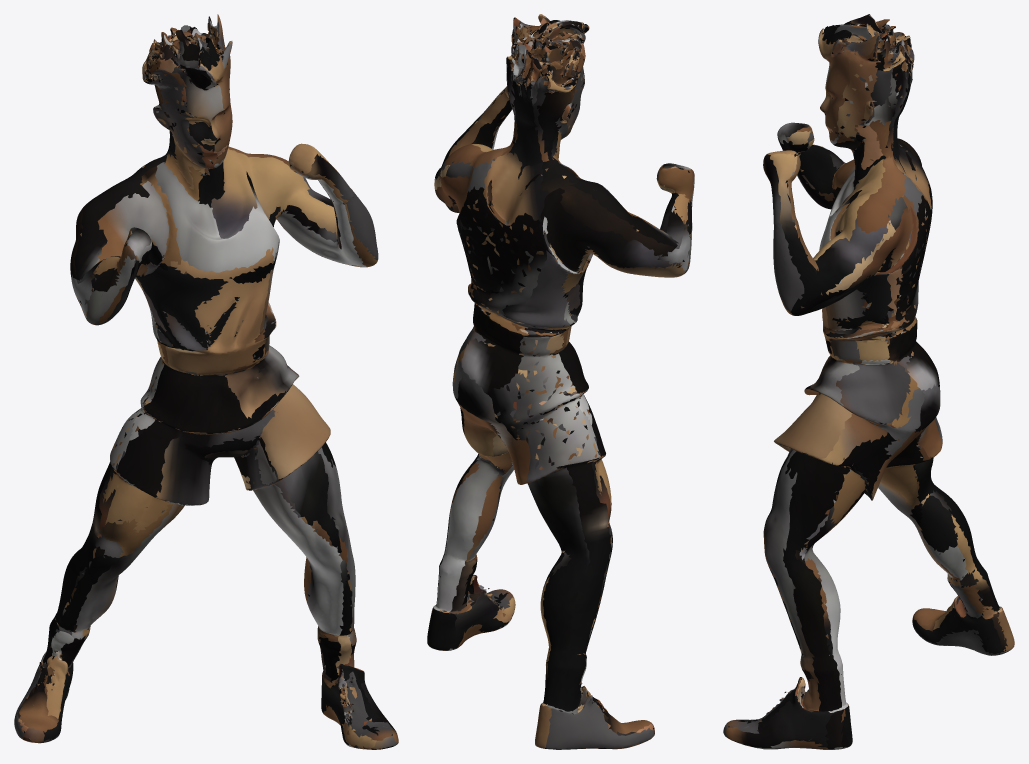
Rendered from trellis2-concept2-high.quad.glb.
3 views of the same model, side by side, from view 1: azimuth 30°, elevation 25°; view 2: azimuth 150°, elevation 25°; view 3: azimuth 270°, elevation 25° (orthographic). The views are drawn at different scales.
Parts seen in each view (by area): view 1: DST; view 2: DST; view 3: DST.
Part boxes in pixels (box(x1,y1,x2,y2)): DST: box(14, 14, 398, 749); DST: box(427, 14, 694, 749); DST: box(723, 14, 1014, 749).
Bounding box in the file's own units: 0.4224 × 0.999 × 0.3933.
1 material, 1 textured.
